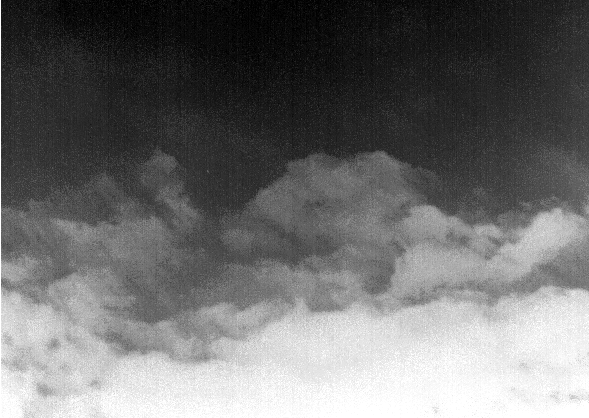dim target: (205, 168, 210, 173)
